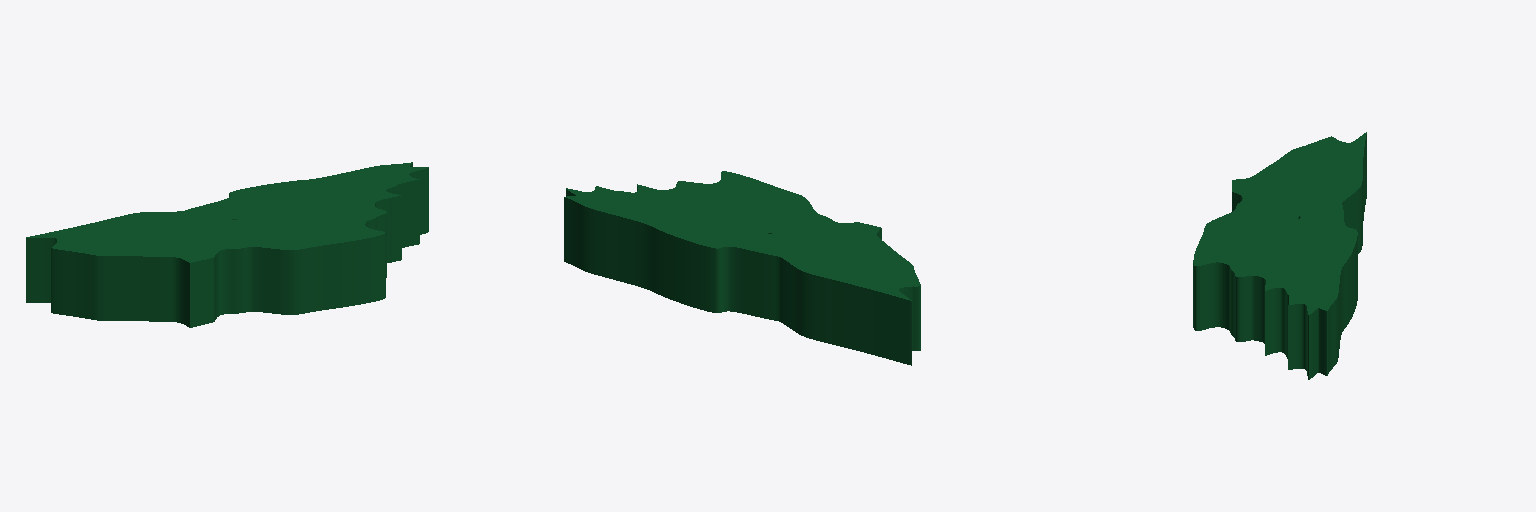
The picture shows the model from 3 angles: view 1: azimuth 30°, elevation 25°; view 2: azimuth 150°, elevation 25°; view 3: azimuth 270°, elevation 25°; orthographic projection.
Visible parts, largest first — view 1: Curve.038_path4258; view 2: Curve.038_path4258; view 3: Curve.038_path4258.
Part boxes in pixels (bbox=[...]): Curve.038_path4258: bbox=[26, 162, 428, 327]; Curve.038_path4258: bbox=[564, 171, 920, 365]; Curve.038_path4258: bbox=[1193, 132, 1366, 379].
Size of the model in its own units: 0.6042 by 0.1 by 0.2421.